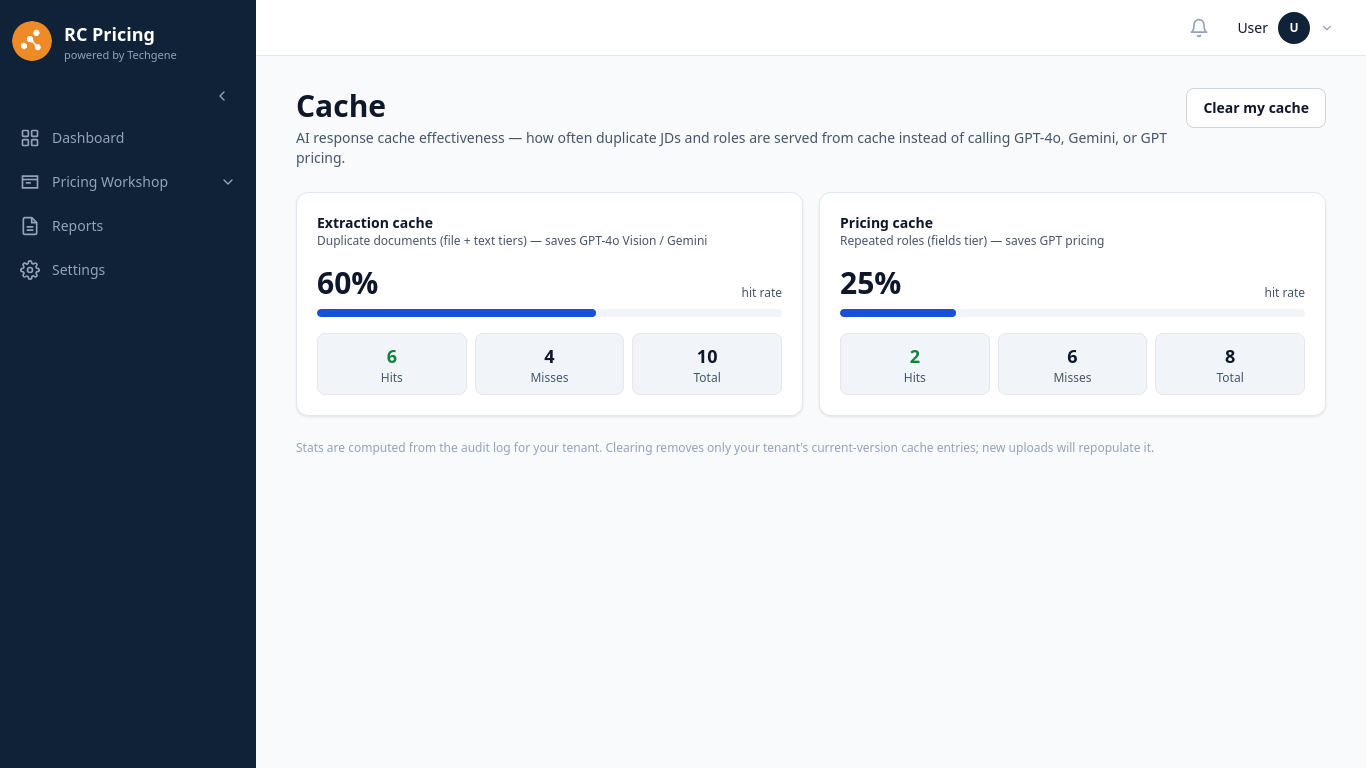
Scenario: CacheView › clears the cache after confirmation
The width and height of the screenshot is (1366, 768).
expect the text "60%" is shown: met, box [317,265,378,301]
Open confirm dialog
What coordinates should you click on to do the following:
click the button "Clear my cache"
I would click on:
 (1256, 108)
Its box is [1186,88,1326,128].
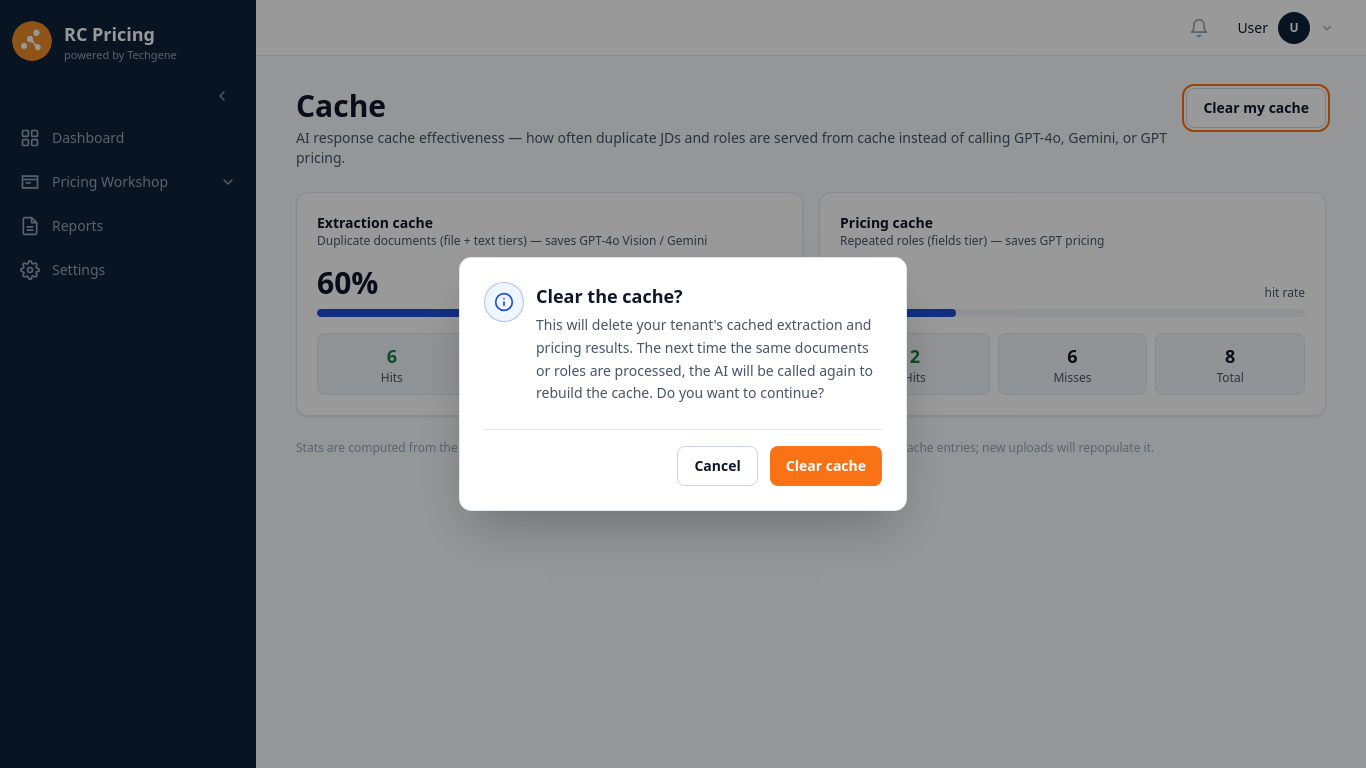
expect the dialog is shown: met
What coordinates should you click on to do the following:
click the button "Clear cache"
I would click on:
 (826, 466)
Its box is [770,446,882,486].
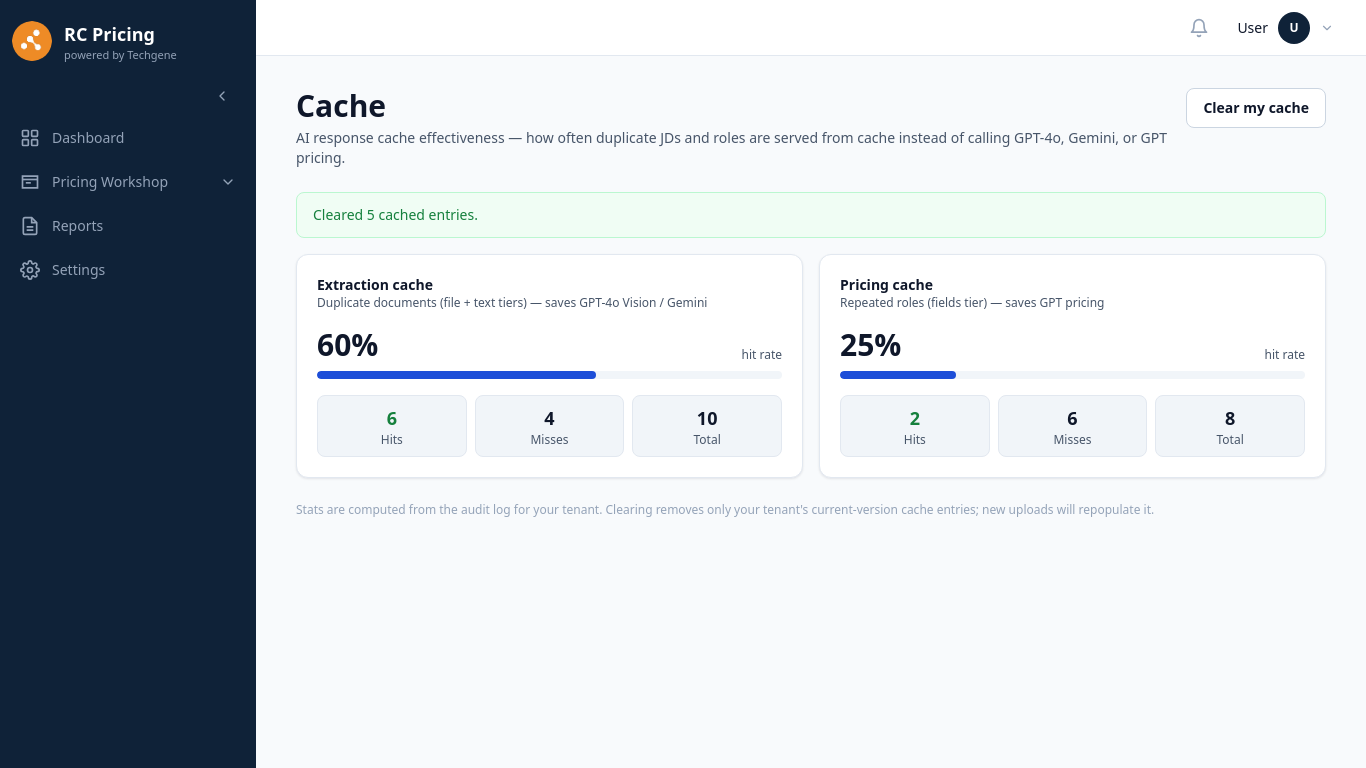
expect the text "Cleared 5 cached entries." is shown: met, box [296,192,1326,238]
